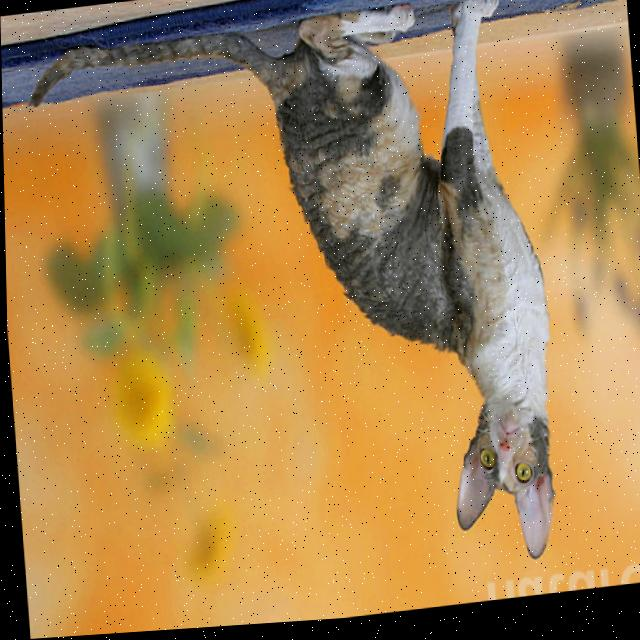Cornish Rex: (19, 0, 568, 623)
